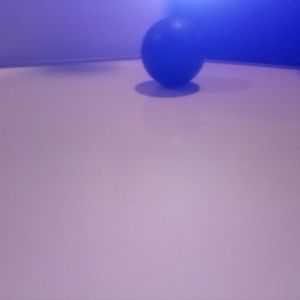alive_ball: (65, 111, 212, 263)
dead_ball: (1, 99, 72, 237)
